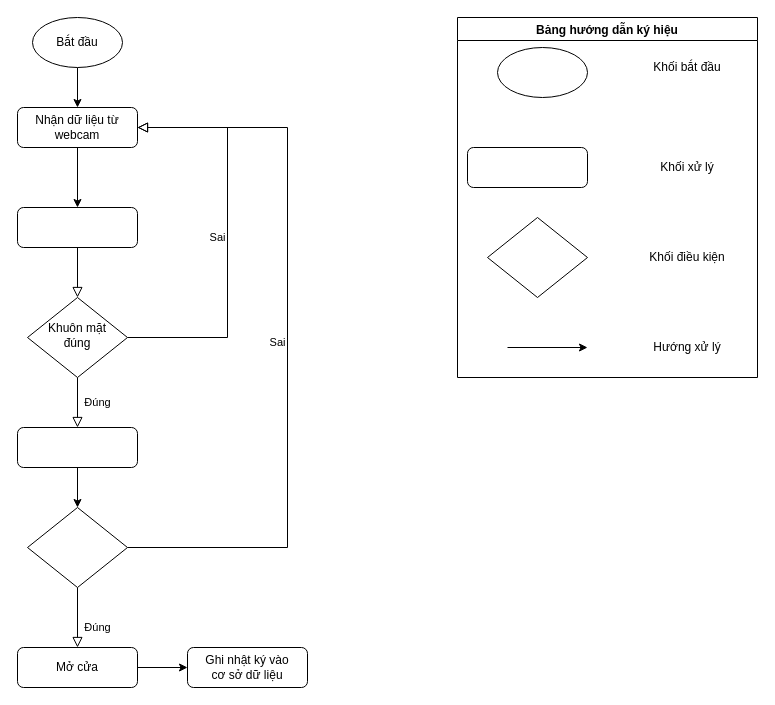
The diagram is 775 pixels wide and 705 high, and some of its shapes have lost their labels. The box of each missing label's shape, as (x1, y1, x2, y2) in pixels:
Có thời khóa biểu: (26, 506, 128, 588)
Kiểm tra khuôn mặt: (16, 206, 138, 248)
Kiểm tra thời khóa biểu: (16, 426, 138, 468)
